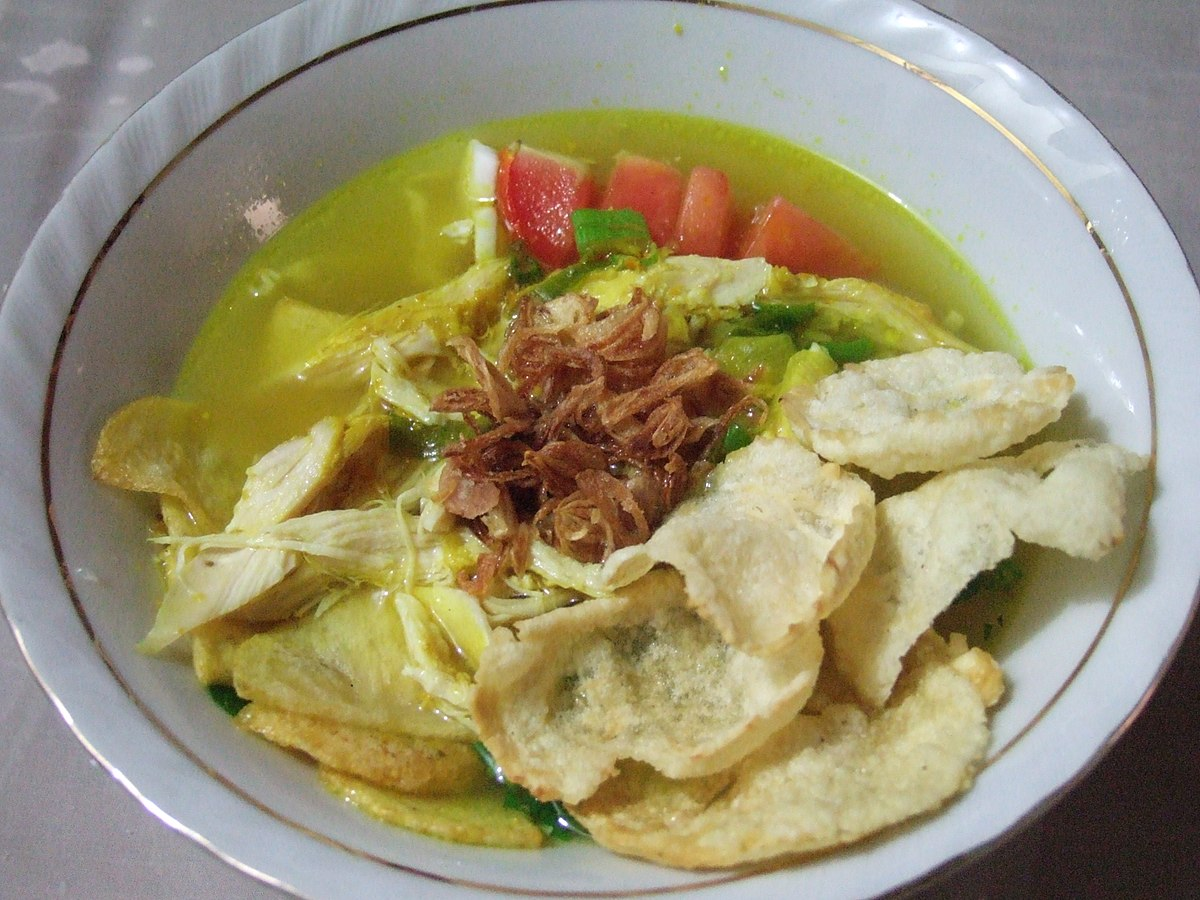soto: (109, 82, 1200, 891)
